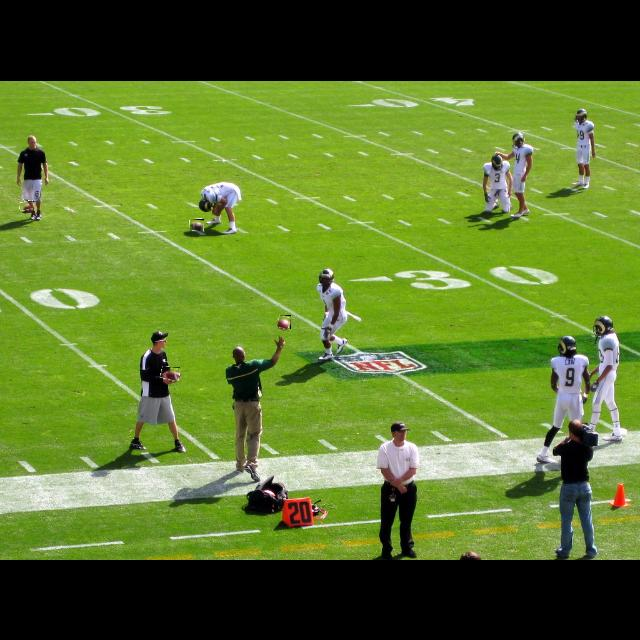Football: (160, 367, 180, 381), (277, 315, 291, 329), (190, 219, 204, 231), (20, 201, 34, 211)
